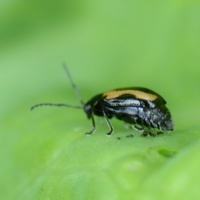insect: (31, 63, 173, 134)
